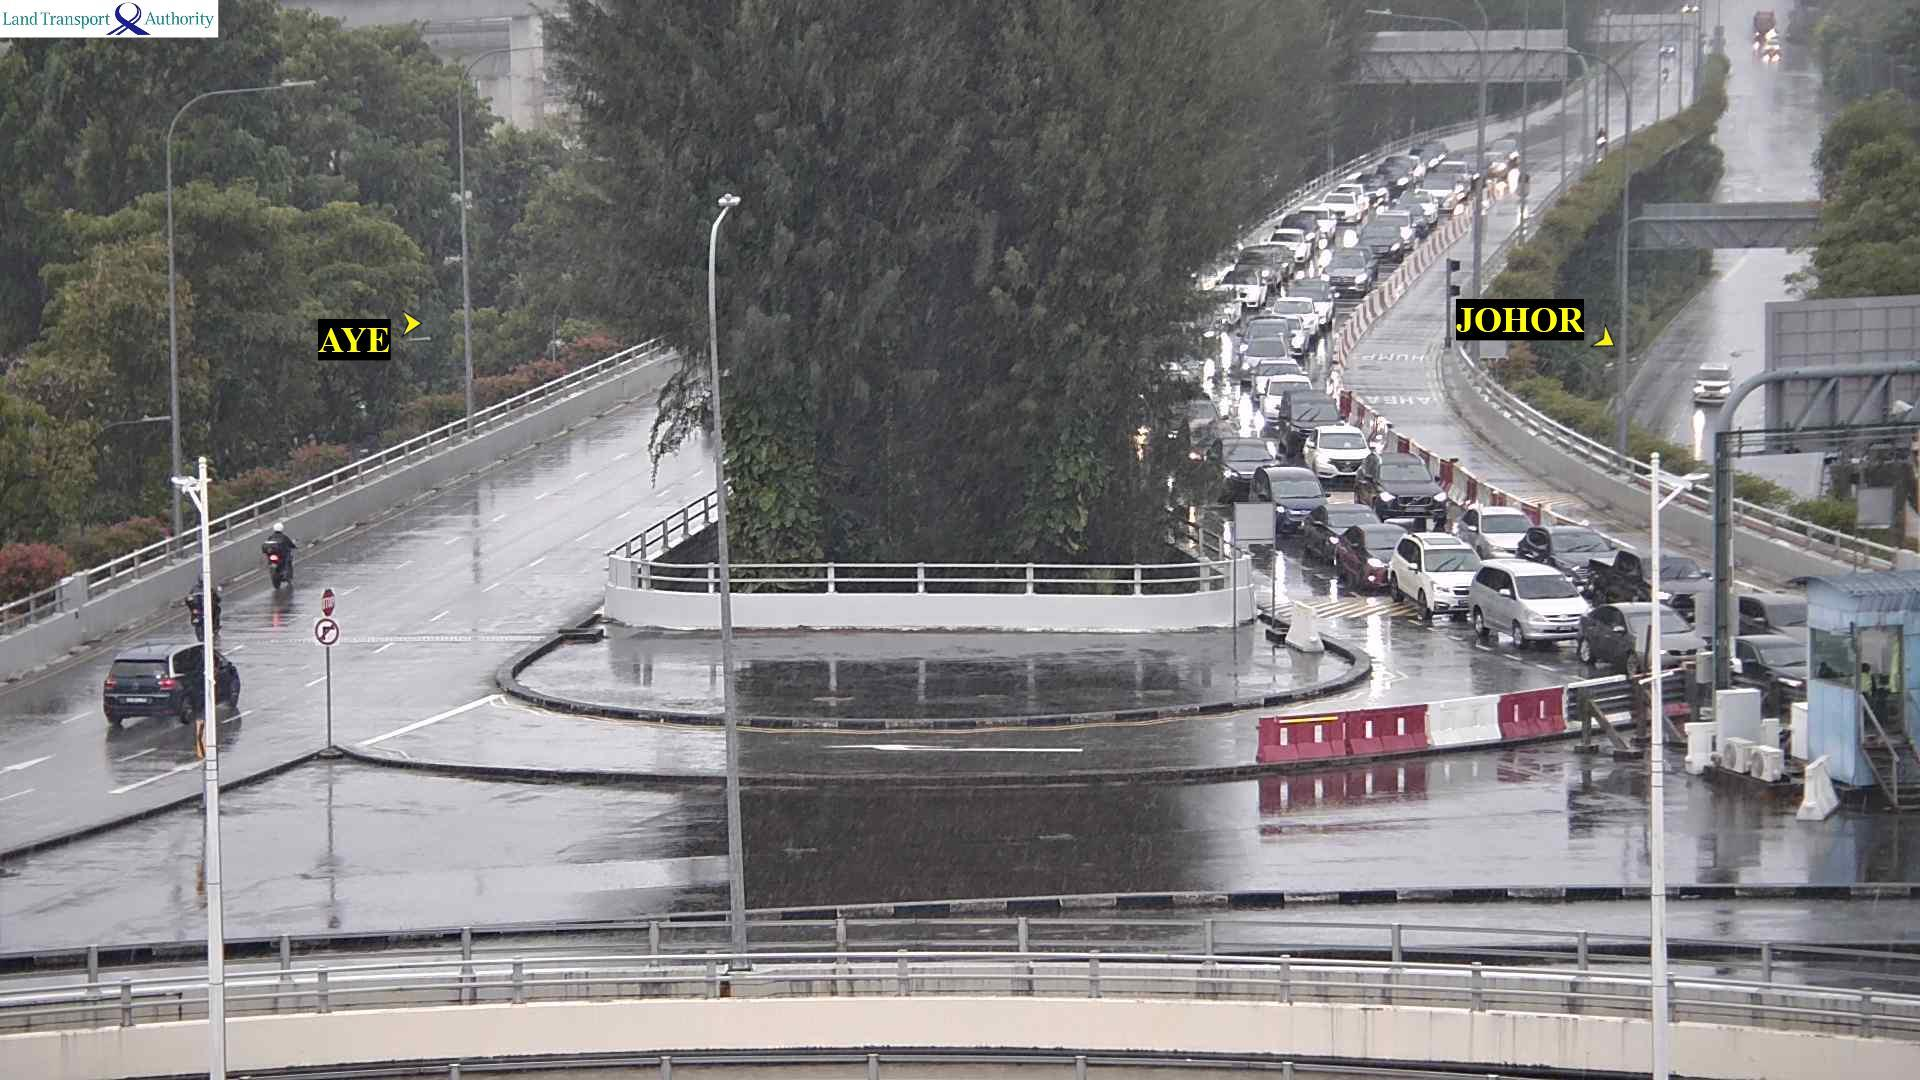vehicle-secondlink-johor: (1471, 561, 1588, 644), (1578, 601, 1709, 675), (1589, 549, 1715, 621), (1388, 532, 1491, 618), (1353, 452, 1448, 528), (1517, 526, 1618, 592), (1335, 524, 1416, 590), (1251, 467, 1329, 535), (1304, 504, 1383, 565), (1459, 504, 1538, 560), (1729, 637, 1808, 691), (1279, 391, 1344, 456), (1206, 438, 1280, 494), (1305, 426, 1371, 481), (1178, 421, 1239, 471), (1739, 593, 1809, 635), (1283, 280, 1337, 328), (1260, 376, 1313, 424), (1320, 251, 1376, 291), (1242, 337, 1290, 383), (1240, 318, 1290, 362), (1251, 360, 1304, 401), (1215, 270, 1267, 309), (1273, 298, 1321, 340), (1237, 246, 1281, 289), (1263, 315, 1309, 354), (1374, 210, 1417, 250), (1360, 223, 1404, 262), (1422, 174, 1462, 212), (1268, 231, 1312, 264), (1280, 214, 1320, 250), (1208, 285, 1241, 326), (1299, 206, 1336, 242), (1351, 173, 1393, 204), (1321, 193, 1363, 223), (1393, 205, 1429, 238), (1341, 247, 1379, 278), (1403, 190, 1438, 223), (1376, 165, 1415, 191), (1488, 139, 1520, 170), (1438, 163, 1472, 192), (1266, 244, 1294, 278), (1385, 156, 1425, 178), (1409, 143, 1439, 170), (1336, 185, 1368, 208), (1484, 150, 1512, 174), (1460, 153, 1477, 184), (1680, 0, 1701, 13), (1662, 40, 1677, 58), (1598, 128, 1606, 149), (1663, 67, 1669, 82)
vehicle-secondlink-singapore: (103, 642, 241, 726), (187, 570, 222, 641), (262, 522, 297, 590)
